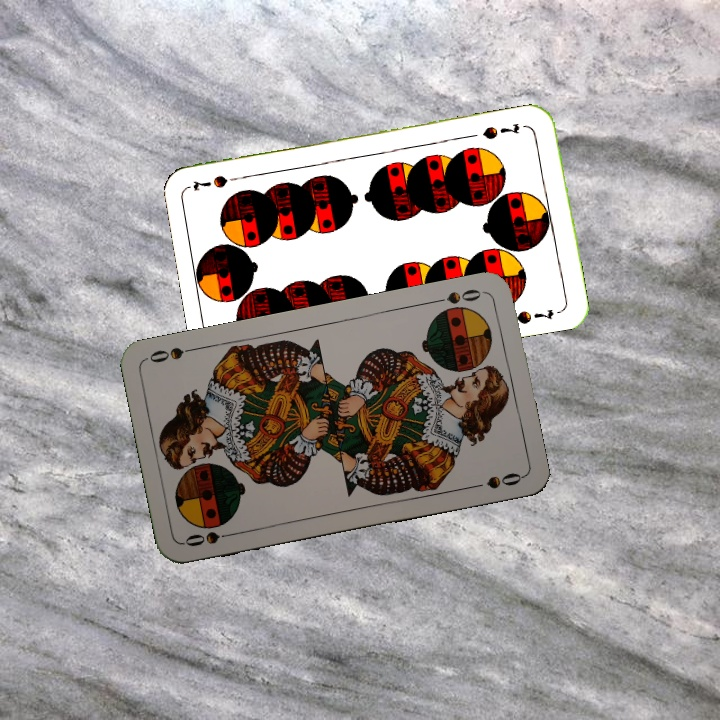S7: (478, 119, 522, 142)
SO: (180, 527, 239, 550), (429, 285, 487, 307)
